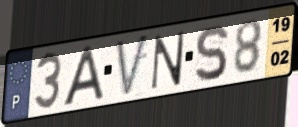3: (33, 49, 64, 112)
8: (231, 18, 265, 76)
A: (60, 43, 106, 108)
N: (149, 28, 188, 92)
S: (193, 23, 229, 85)
V: (114, 31, 151, 100)
